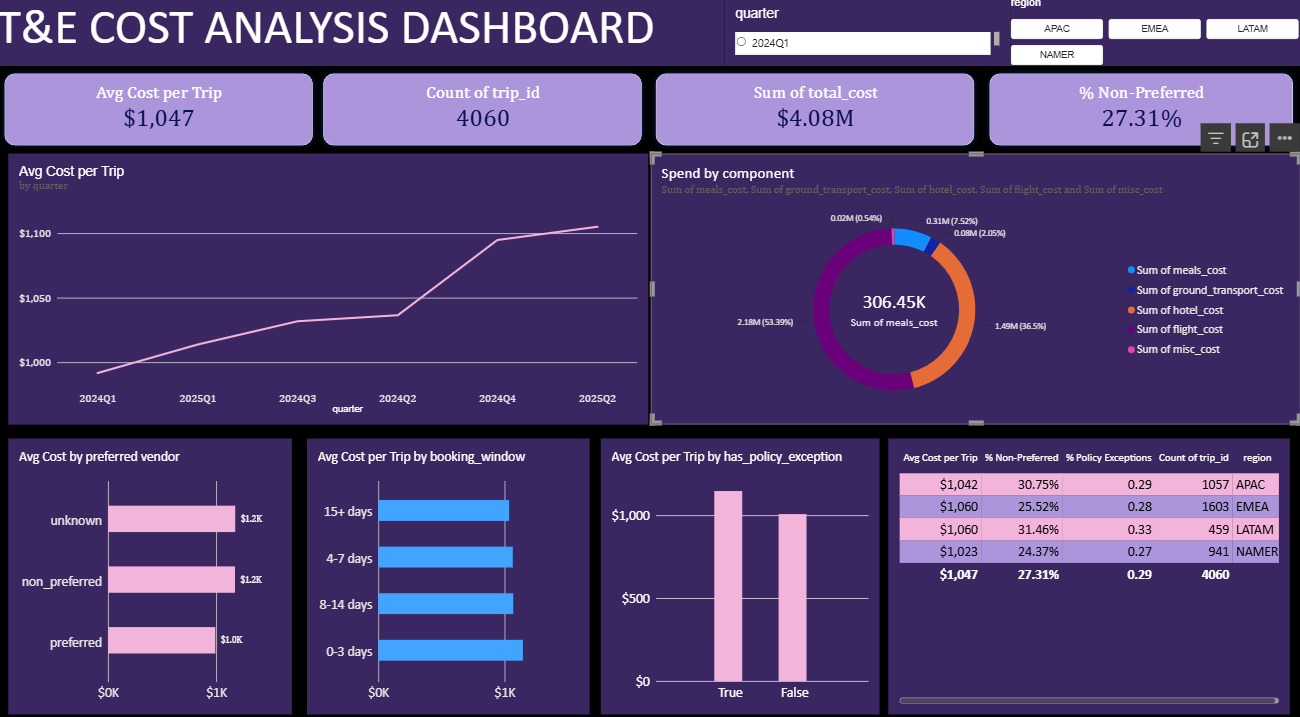

This screenshot's page, from the dashboard's own definition file:
{"tool":"powerbi","page":{"name":"Page 1","canvas":[1920,1080],"ordinal":0},"visuals":[{"type":"cardVisual","fields":{"Data":["trip_analytics.Avg Cost per Trip"]},"box":[0,103.1,476.7,128.8],"z":0},{"type":"cardVisual","fields":{"Data":["CountNonNull(trip_analytics.trip_id)"]},"box":[469.3,103.1,491.4,128.8],"z":1000},{"type":"cardVisual","fields":{"Data":["Sum(trip_analytics.total_cost)"]},"box":[958.9,103.1,491.4,128.8],"z":2000},{"type":"cardVisual","fields":{"Data":["trip_analytics.% Non-Preferred"]},"box":[1450.3,103.1,469.3,128.8],"z":3000},{"type":"lineChart","fields":{"Category":["trip_analytics.quarter"],"Y":["trip_analytics.Avg Cost per Trip"]},"box":[16.6,231.9,942.3,399.4],"z":4000},{"type":"donutChart","title":"Spend by component","fields":{"Y":["Sum(trip_analytics.meals_cost)","Sum(trip_analytics.ground_transport_cost)","Sum(trip_analytics.hotel_cost)","Sum(trip_analytics.flight_cost)","Sum(trip_analytics.misc_cost)"]},"box":[962.6,231.9,957.1,399.4],"z":5000},{"type":"listSlicer","fields":{"Values":["trip_analytics.quarter"]},"box":[1071.2,0,421.5,103.1],"z":6000},{"type":"clusteredBarChart","title":"Avg Cost by preferred vendor","fields":{"Category":["trip_analytics.preferred_vendor_flag"],"Y":["trip_analytics.Avg Cost per Trip"]},"box":[16.6,651.5,417.8,406.8],"z":7000},{"type":"columnChart","fields":{"Category":["trip_analytics.has_policy_exception"],"Y":["trip_analytics.Avg Cost per Trip"]},"box":[889,651.5,410.4,406.8],"z":8000},{"type":"clusteredBarChart","fields":{"Category":["trip_analytics.booking_window"],"Y":["trip_analytics.Avg Cost per Trip"]},"box":[456.4,651.5,416,406.8],"z":9000},{"type":"tableEx","fields":{"Values":["trip_analytics.Avg Cost per Trip","trip_analytics.% Non-Preferred","trip_analytics.% Policy Exceptions","CountNonNull(trip_analytics.trip_id)","trip_analytics.region"]},"box":[1312.3,651.5,590.8,406.8],"z":10000},{"type":"textbox","box":[0,0,1071.2,103.1],"z":11000},{"type":"advancedSlicerVisual","fields":{"Values":["trip_analytics.region"]},"box":[1492.6,0,427,103.1],"z":11001}]}

Visuals, with their boxes in screenshot pixels (x1, y1, x2, y2), scaled from the page's 1920x1080 canvas onto the 1300x717 screenshot:
cardVisual - trip_analytics.Avg Cost per Trip: box(0, 68, 323, 154)
cardVisual - CountNonNull(trip_analytics.trip_id): box(318, 68, 650, 154)
cardVisual - Sum(trip_analytics.total_cost): box(649, 68, 982, 154)
cardVisual - trip_analytics.% Non-Preferred: box(982, 68, 1299, 154)
lineChart - trip_analytics.quarter x trip_analytics.Avg Cost per Trip: box(11, 154, 649, 419)
"Spend by component" donutChart: box(652, 154, 1299, 419)
listSlicer - trip_analytics.quarter: box(725, 0, 1011, 68)
"Avg Cost by preferred vendor" clusteredBarChart: box(11, 433, 294, 703)
columnChart - trip_analytics.has_policy_exception x trip_analytics.Avg Cost per Trip: box(602, 433, 880, 703)
clusteredBarChart - trip_analytics.booking_window x trip_analytics.Avg Cost per Trip: box(309, 433, 591, 703)
tableEx - trip_analytics.Avg Cost per Trip x trip_analytics.% Non-Preferred: box(889, 433, 1289, 703)
textbox: box(0, 0, 725, 68)
advancedSlicerVisual - trip_analytics.region: box(1011, 0, 1299, 68)
